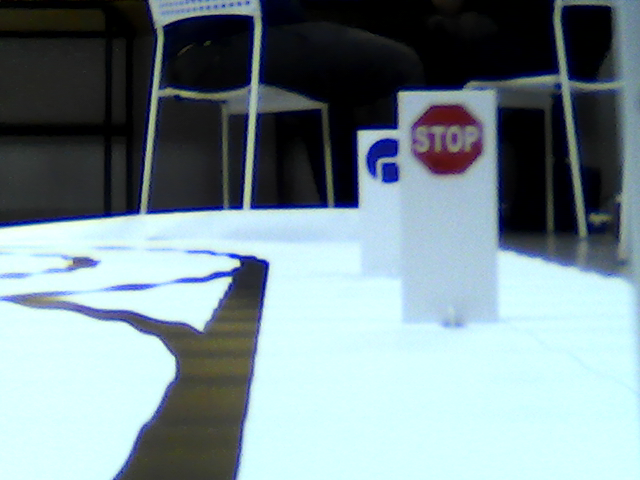Right: (365, 137, 400, 181)
Stop: (407, 100, 485, 176)
